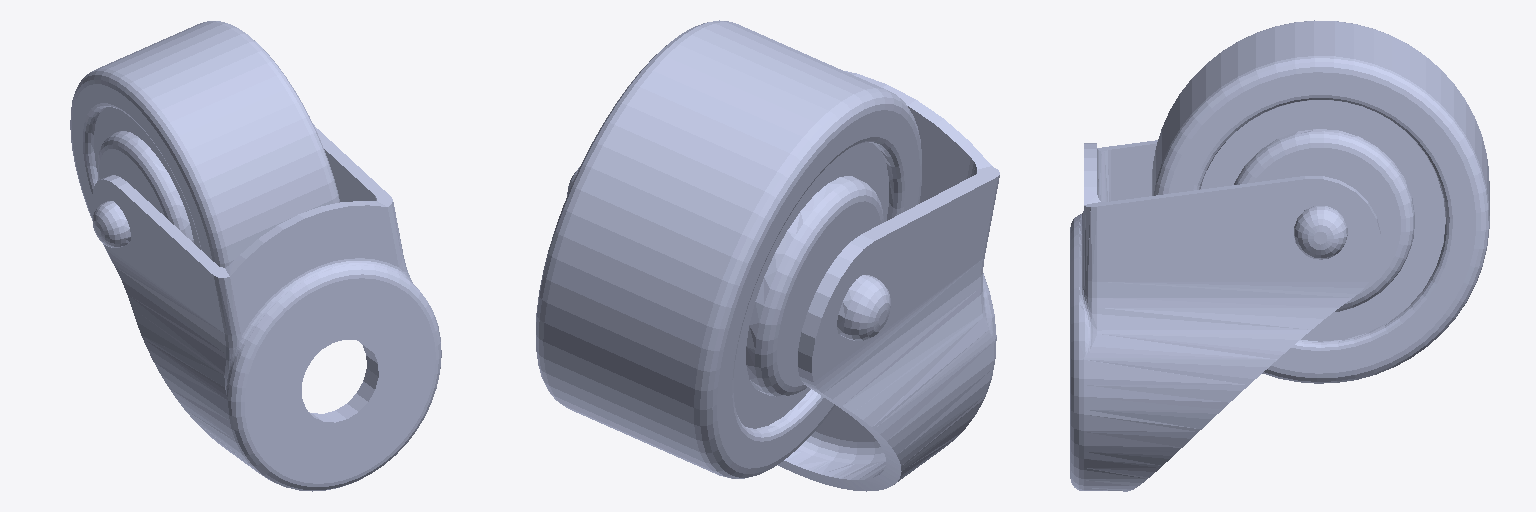
URDF robot description (2C-WXL-00_AF0_ASM.sldasm):
<robot
  name="2C-WXL-00_AF0_ASM.sldasm">
  <link
    name="base_link">
    <inertial>
      <origin
        xyz="0 0 0"
        rpy="0 0 0" />
      <mass
        value="0.015396" />
      <inertia
        ixx="2.6829E-06"
        ixy="-5.6587E-23"
        ixz="-1.8095E-22"
        iyy="5.8911E-06"
        iyz="-4.4898E-23"
        izz="3.7918E-06" />
    </inertial>
    <visual>
      <origin
        xyz="0 0 0"
        rpy="0 0 0" />
      <geometry>
        <mesh
          filename="package://Okrobot_description/meshes/2C-WXL-00_AF0_ASM.sldasm/meshes/base_link.STL" />
      </geometry>
      <material
        name="">
        <color
          rgba="0.79216 0.81961 0.93333 1" />
      </material>
    </visual>
    <collision>
      <origin
        xyz="0 0 0"
        rpy="0 0 0" />
      <geometry>
        <mesh
          filename="package://Okrobot_description/meshes/2C-WXL-00_AF0_ASM.sldasm/meshes/base_link.STL" />
      </geometry>
    </collision>
  </link>
  <link
    name="wheel_up_Link">
    <inertial>
      <origin
        xyz="-0.0015495 0.011816 0.0082024"
        rpy="0 0 0" />
      <mass
        value="0.012085" />
      <inertia
        ixx="4.5807E-06"
        ixy="-2.2651E-07"
        ixz="1.9169E-08"
        iyy="4.6728E-06"
        iyz="1.2002E-06"
        izz="4.6779E-06" />
    </inertial>
    <visual>
      <origin
        xyz="0 0 0"
        rpy="0 0 0" />
      <geometry>
        <mesh
          filename="package://Okrobot_description/meshes/2C-WXL-00_AF0_ASM.sldasm/meshes/wheel_up_Link.STL" />
      </geometry>
      <material
        name="">
        <color
          rgba="0.79216 0.81961 0.93333 1" />
      </material>
    </visual>
    <collision>
      <origin
        xyz="0 0 0"
        rpy="0 0 0" />
      <geometry>
        <mesh
          filename="package://Okrobot_description/meshes/2C-WXL-00_AF0_ASM.sldasm/meshes/wheel_up_Link.STL" />
      </geometry>
    </collision>
  </link>
  <joint
    name="wheel_up_joint"
    type="continuous">
    <origin
      xyz="0 0.013 0"
      rpy="0 0 0" />
    <parent
      link="base_link" />
    <child
      link="wheel_up_Link" />
    <axis
      xyz="0 1 0" />
  </joint>
  <link
    name="wheel_down_Link">
    <inertial>
      <origin
        xyz="-3.6429E-17 0 -3.4694E-18"
        rpy="0 0 0" />
      <mass
        value="0.048249" />
      <inertia
        ixx="1.4761E-05"
        ixy="-1.5679E-21"
        ixz="-8.9444E-07"
        iyy="1.0022E-05"
        iyz="2.8247E-22"
        izz="1.0191E-05" />
    </inertial>
    <visual>
      <origin
        xyz="0 0 0"
        rpy="0 0 0" />
      <geometry>
        <mesh
          filename="package://Okrobot_description/meshes/2C-WXL-00_AF0_ASM.sldasm/meshes/wheel_down_Link.STL" />
      </geometry>
      <material
        name="">
        <color
          rgba="0.79216 0.81961 0.93333 1" />
      </material>
    </visual>
    <collision>
      <origin
        xyz="0 0 0"
        rpy="0 0 0" />
      <geometry>
        <mesh
          filename="package://Okrobot_description/meshes/2C-WXL-00_AF0_ASM.sldasm/meshes/wheel_down_Link.STL" />
      </geometry>
    </collision>
  </link>
  <joint
    name="wheel_down_joint"
    type="continuous">
    <origin
      xyz="-0.0042662 0.035 0.022601"
      rpy="0 0 0" />
    <parent
      link="wheel_up_Link" />
    <child
      link="wheel_down_Link" />
    <axis
      xyz="-0.98265 0 -0.18549" />
  </joint>
</robot>

--- What the picture shows (computed from the rendered views, not written in the file) ---
3 views of the same robot in one strip: view 1: azimuth 30°, elevation 25°; view 2: azimuth 150°, elevation 25°; view 3: azimuth 270°, elevation 25° (orthographic).
Model 2C-WXL-00_AF0_ASM.sldasm with 3 links and 2 joints (2 continuous), rooted at base_link, posed every joint at zero.
Visible links, largest first — view 1: wheel_up_Link, wheel_down_Link; view 2: wheel_down_Link, wheel_up_Link; view 3: wheel_up_Link, wheel_down_Link.
Boxes of the visible links, left/top/right/bottom form: wheel_up_Link: left=92, top=124, right=441, bottom=491; wheel_down_Link: left=70, top=21, right=339, bottom=267; wheel_down_Link: left=536, top=20, right=921, bottom=478; wheel_up_Link: left=567, top=71, right=999, bottom=491; wheel_up_Link: left=1070, top=140, right=1380, bottom=491; wheel_down_Link: left=1152, top=20, right=1489, bottom=383.
Bounding box of the posed robot: 0.0461 × 0.062 × 0.0696 m (x, y, z).
Meshes: 3 distinct files referenced, 2 mesh visuals loaded (2 binary STL); not drawn: 1 (reference not matched to a file when rendering).